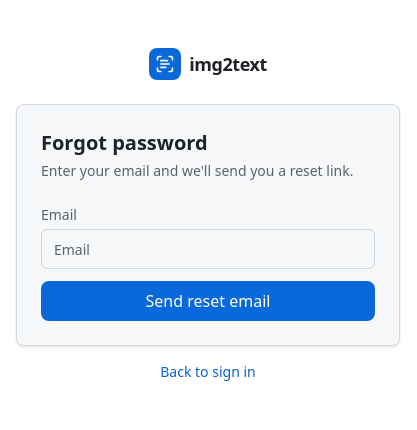
Scenario: forgot shows constant success message + link sang form reset
Type "u@x.io" into the field with test id "input-email" at (208, 249), box [41,229,375,269]
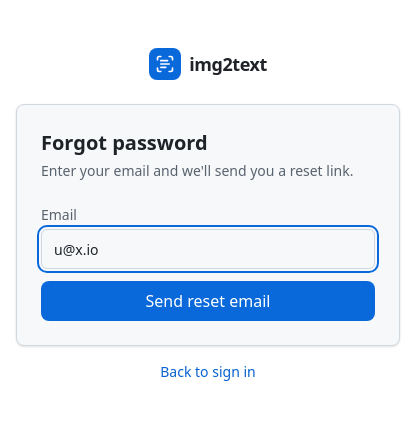
Click the button with test id "btn-forgot" at (208, 301), box [41,281,375,321]
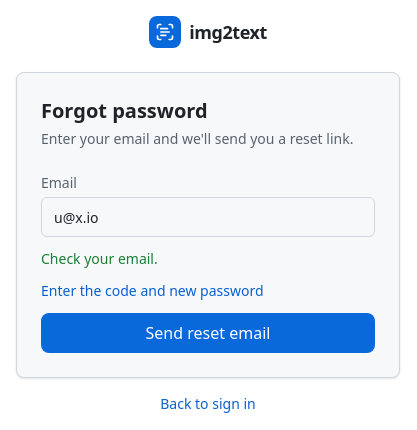
Check: the text "Check your email." is shown, box [41,249,158,268]
